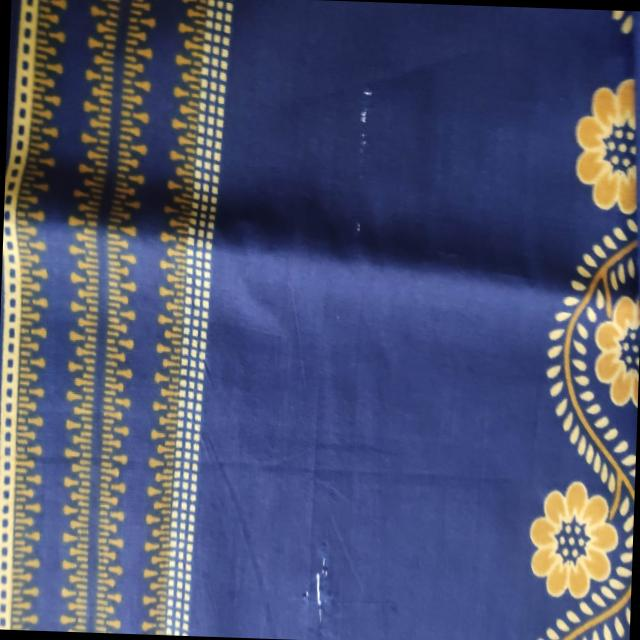selvet: (278, 516, 354, 638), (345, 81, 381, 242)
